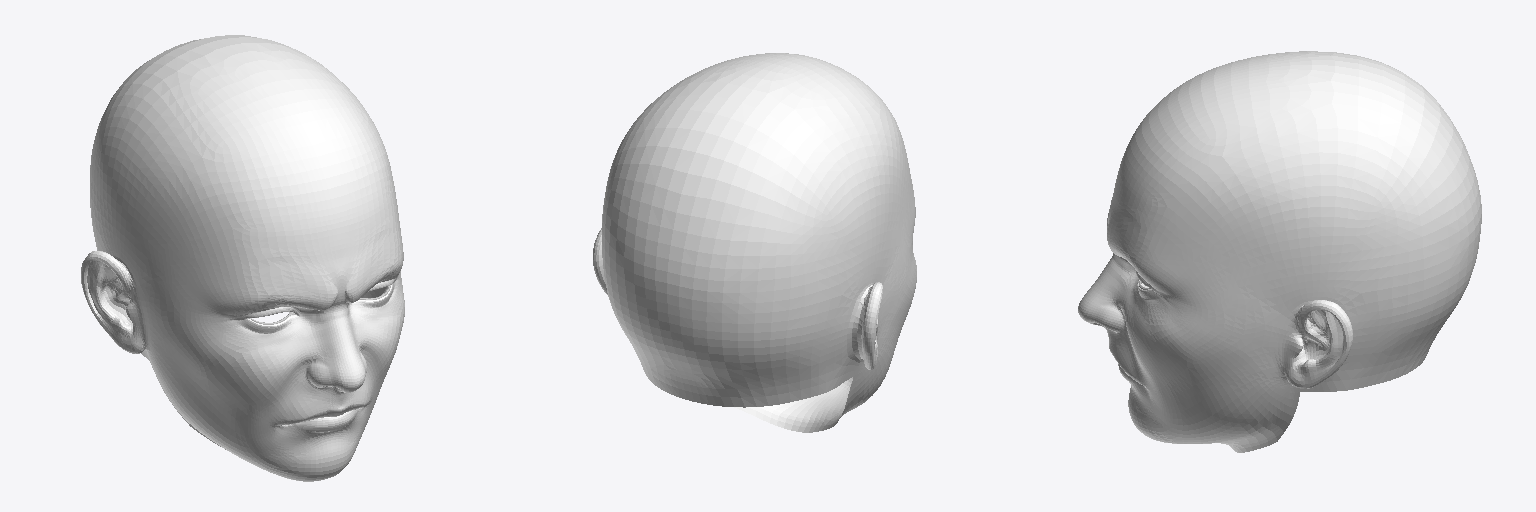
Rendered from Old.obj.
3 renders of one model, left to right at view 1: azimuth 30°, elevation 25°; view 2: azimuth 150°, elevation 25°; view 3: azimuth 270°, elevation 25°, orthographic.
Parts seen in each view (by area): view 1: head; view 2: head; view 3: head.
Boxes of the visible parts, box(x1,y1,x2,y2) form: head: box(81, 35, 404, 481); head: box(593, 53, 916, 432); head: box(1078, 51, 1481, 452).
Bounding box in the file's own units: 17.95 × 23.17 × 22.17.